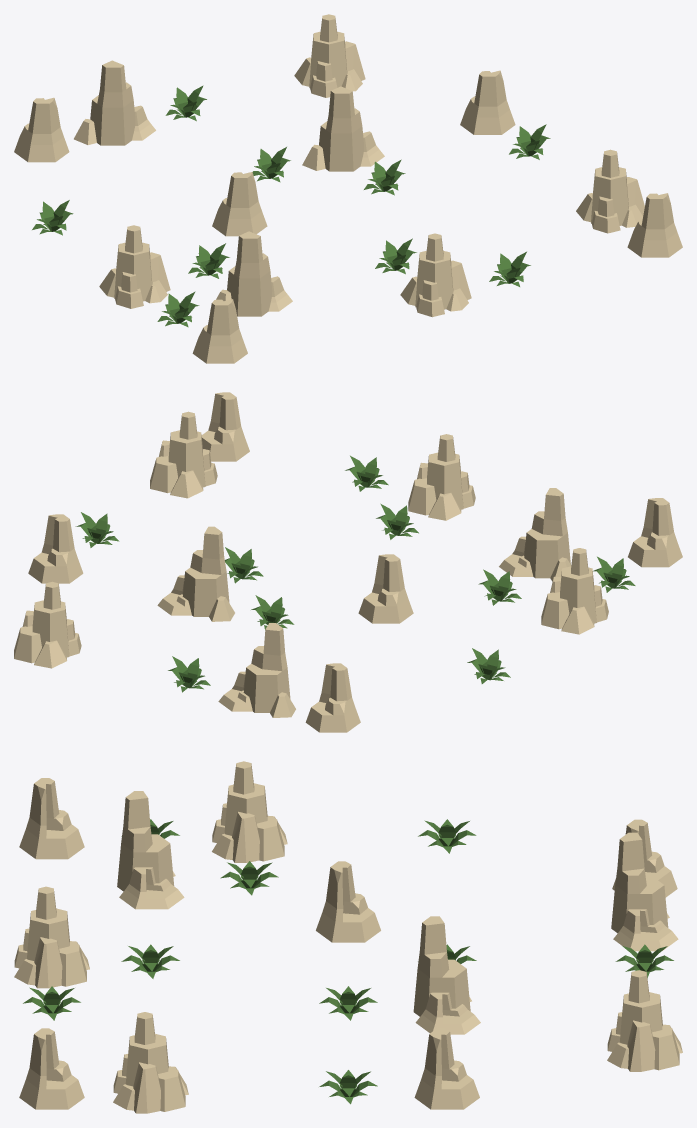
The model's file is rochers.glb.
3 views of the same model, one above another, from view 1: azimuth 30°, elevation 25°; view 2: azimuth 150°, elevation 25°; view 3: azimuth 270°, elevation 25° (orthographic). The views are drawn at different scales.
Parts seen in each view (by area): view 1: mergedBlocks(Clone); view 2: mergedBlocks(Clone); view 3: mergedBlocks(Clone).
Boxes of the visible parts, x1=… form: mergedBlocks(Clone): x1=14, y1=14, x2=682, y2=363; mergedBlocks(Clone): x1=14, y1=392, x2=682, y2=732; mergedBlocks(Clone): x1=14, y1=761, x2=682, y2=1113.
Bounding box in the file's own units: 6.76 × 0.9959 × 6.77.
Materials: 1 (1 with a texture image).
